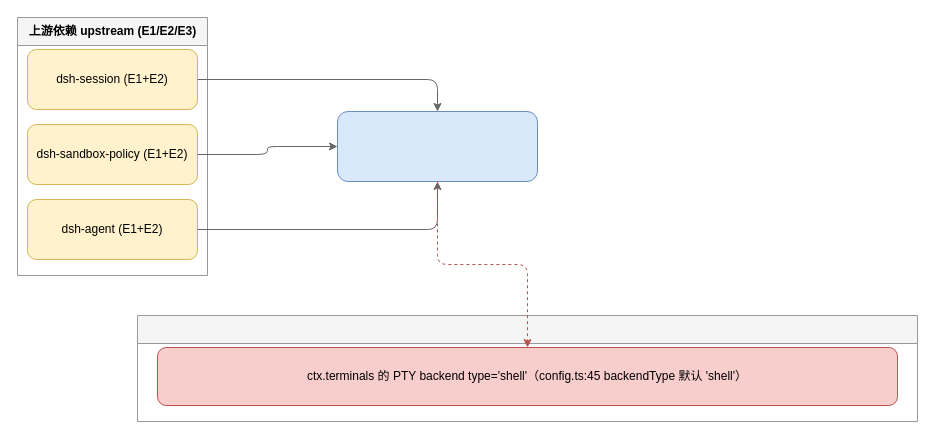
Image size: 935x439. Some labels were removed from this diagram. The box of each missing label's shape, as (x1, y1, x2, y2) in pixels:
@deepseek-ai/dsh-terminal-bash: (336, 110, 538, 182)
提供服务 provides（关键项）: (136, 314, 918, 422)
